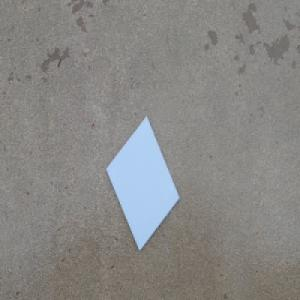PaintChip: (105, 114, 179, 254)
